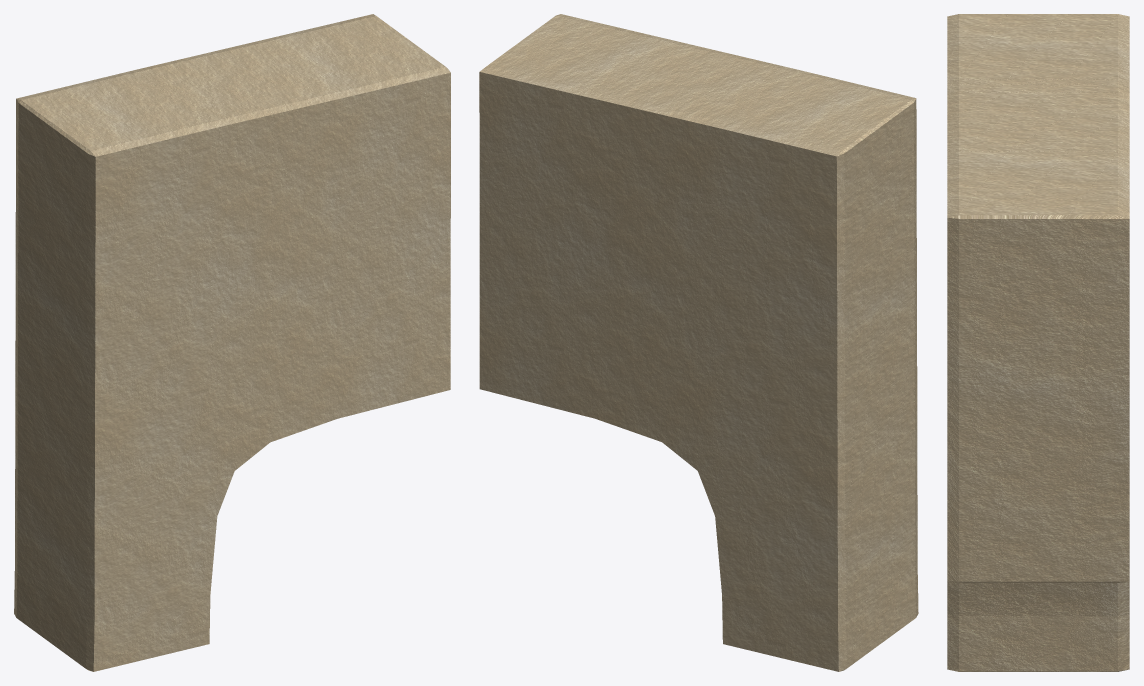
Rendered from Solar_geo_lform_01.fbx.
3 renders of one model, left to right at view 1: azimuth 30°, elevation 25°; view 2: azimuth 150°, elevation 25°; view 3: azimuth 270°, elevation 25°, orthographic. The views are drawn at different scales.
Visible parts, largest first — view 1: pasted__nurbsToPoly2; view 2: pasted__nurbsToPoly2; view 3: pasted__nurbsToPoly2.
Boxes of the visible parts, x1=… form: pasted__nurbsToPoly2: x1=14, y1=14, x2=450, y2=671; pasted__nurbsToPoly2: x1=479, y1=14, x2=918, y2=671; pasted__nurbsToPoly2: x1=947, y1=14, x2=1129, y2=671.
Bounding box in the file's own units: 399 × 547 × 152.
